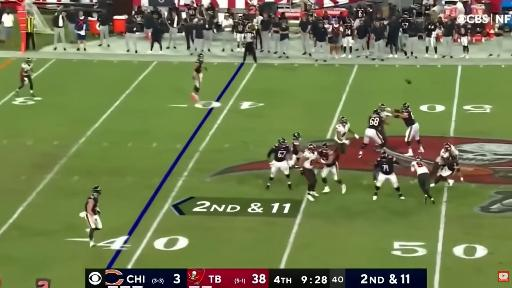Helmet: (338, 115, 347, 126), (92, 185, 101, 195), (401, 103, 411, 112), (308, 143, 317, 152), (321, 144, 329, 153), (279, 137, 287, 145), (294, 131, 302, 139), (380, 151, 387, 160), (25, 57, 32, 65), (444, 144, 451, 151), (414, 157, 423, 162), (379, 104, 386, 110), (199, 54, 205, 60), (374, 110, 378, 114)
Jersey: (375, 157, 399, 175), (268, 144, 290, 162), (335, 123, 350, 142), (319, 149, 335, 166), (440, 145, 458, 160), (303, 150, 317, 169), (85, 196, 98, 215), (411, 161, 429, 174), (368, 115, 382, 130), (403, 110, 415, 127), (21, 63, 33, 75), (291, 140, 300, 156), (195, 60, 203, 74), (380, 111, 392, 119)
Player: (394, 103, 424, 156), (373, 151, 404, 200), (431, 143, 463, 186), (319, 143, 346, 193), (80, 186, 102, 247), (267, 138, 291, 189), (300, 144, 321, 201), (359, 110, 383, 157), (411, 156, 435, 203), (431, 143, 458, 176), (335, 117, 358, 154), (191, 53, 207, 104), (16, 57, 35, 97), (379, 104, 392, 146), (289, 132, 301, 167)
